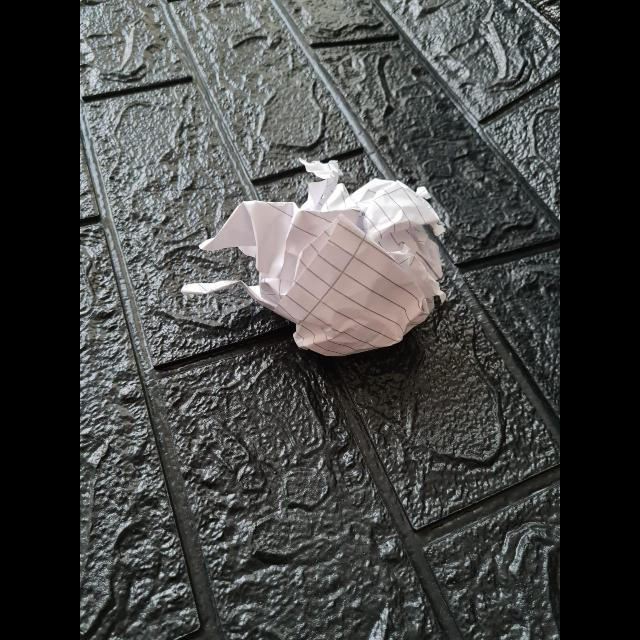scrap_paper: (202, 163, 438, 349)
